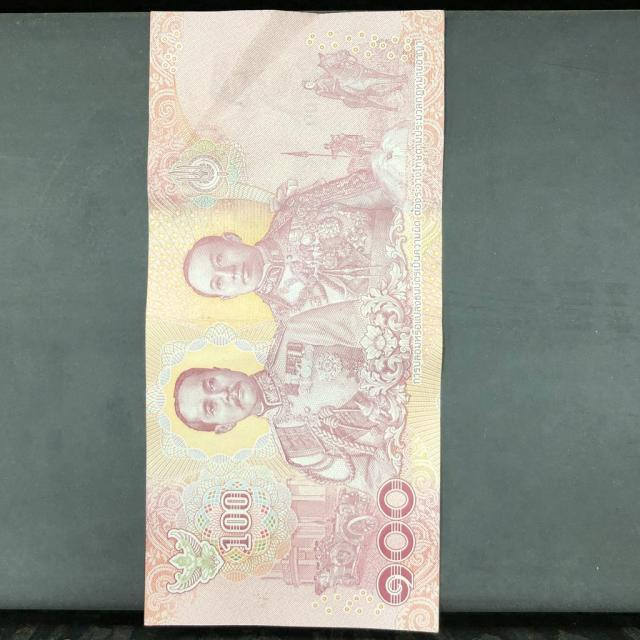THAI100: (145, 11, 444, 631)
